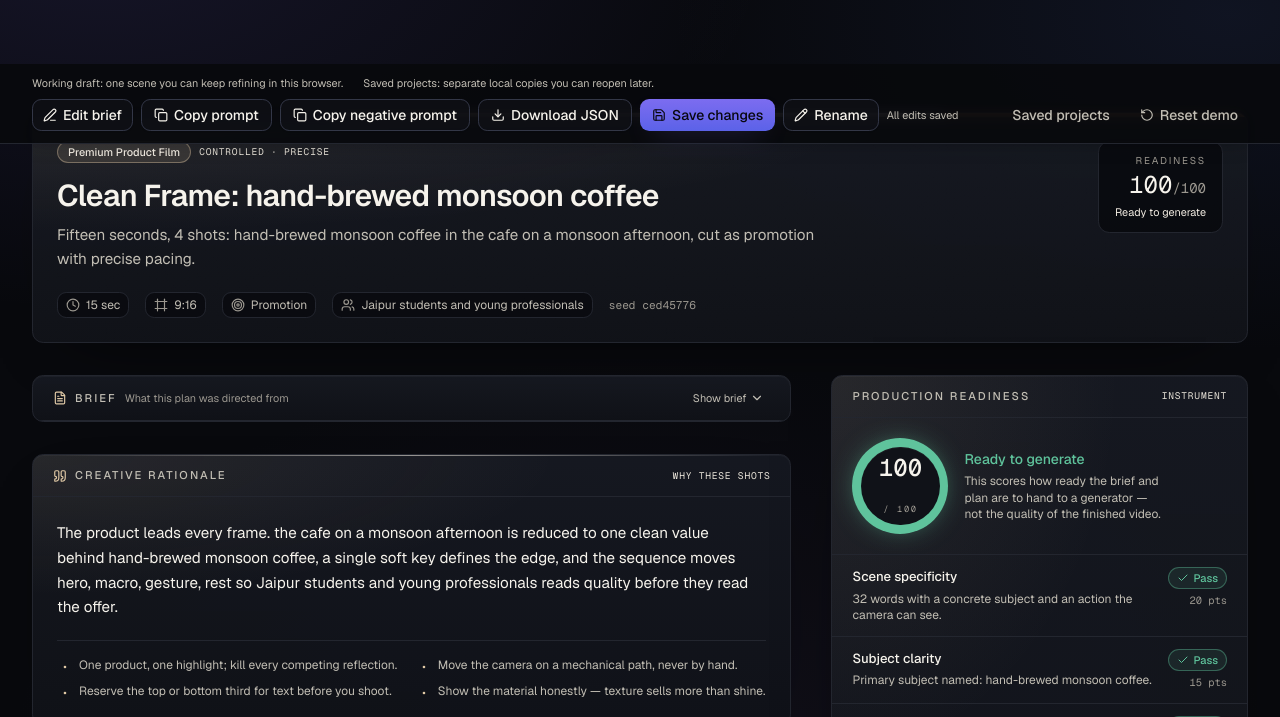
Test: BriefPanel › behaves identically for a reopened saved project
Click the button "Show brief" at (729, 398), box left=687, top=388, right=770, bottom=408
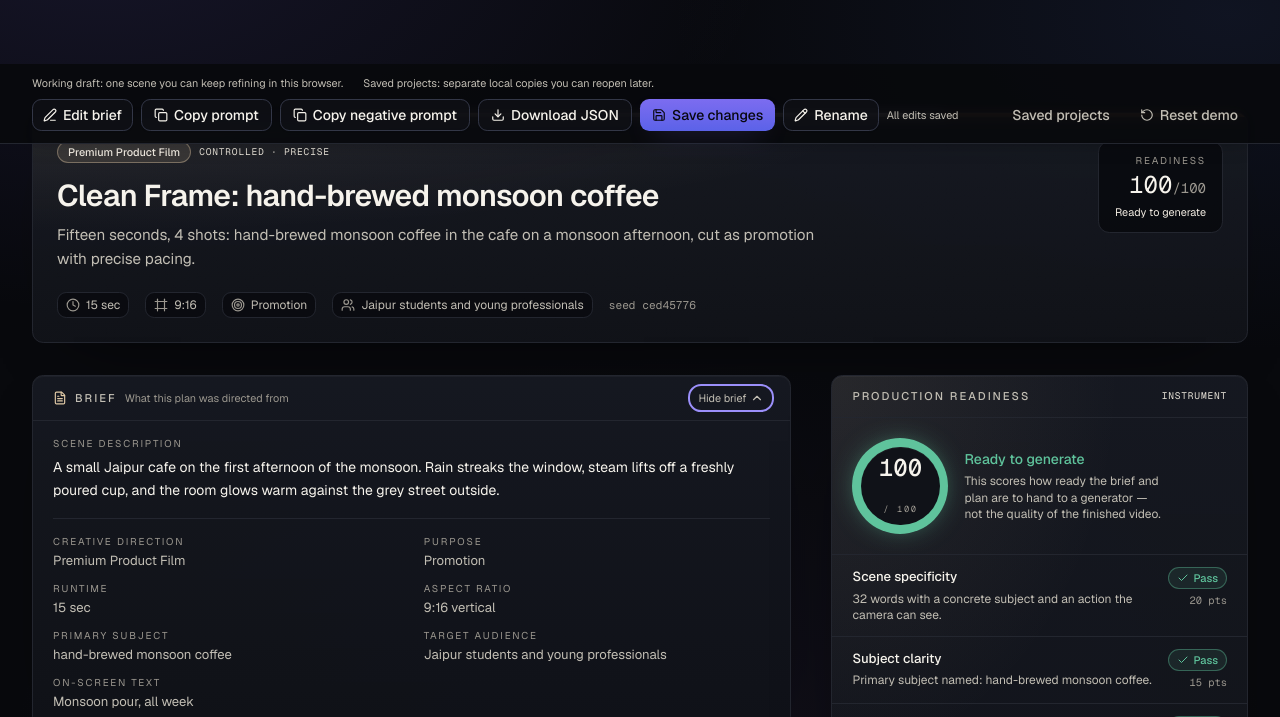
Now the text "A small Jaipur cafe on the first afternoon of the monsoon. Rain streaks the window, steam lifts off a freshly poured cup" is shown, box left=53, top=458, right=734, bottom=499
Now the text "Monsoon pour, all week" is shown, box left=53, top=692, right=194, bottom=710
